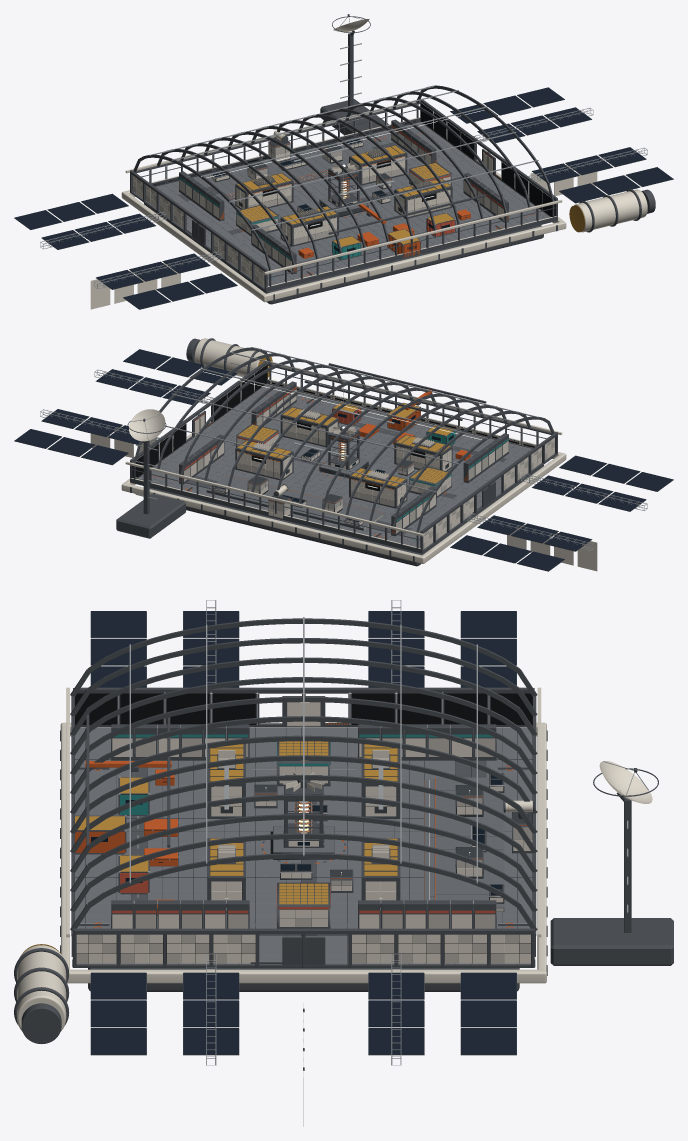
Rendered from station.glb.
3 renders of one model, top to bottom at view 1: azimuth 30°, elevation 25°; view 2: azimuth 150°, elevation 25°; view 3: azimuth 270°, elevation 25°, orthographic. The views are drawn at different scales.
Visible parts, largest first — view 1: station, exterior, floor, vault; view 2: station, exterior, floor, vault; view 3: station, exterior, vault, floor.
Part boxes in pixels (bbox=[...]): station: bbox=[125, 98, 562, 291]; exterior: bbox=[14, 14, 673, 309]; floor: bbox=[134, 122, 549, 287]; vault: bbox=[133, 85, 554, 270]; station: bbox=[125, 360, 562, 553]; exterior: bbox=[14, 338, 673, 571]; floor: bbox=[138, 384, 553, 549]; vault: bbox=[133, 347, 554, 532]; station: bbox=[66, 687, 541, 967]; exterior: bbox=[14, 600, 673, 1126]; vault: bbox=[70, 617, 537, 930]; floor: bbox=[75, 727, 532, 964].
Size of the model in its own units: 140 by 33.74 by 85.58.
